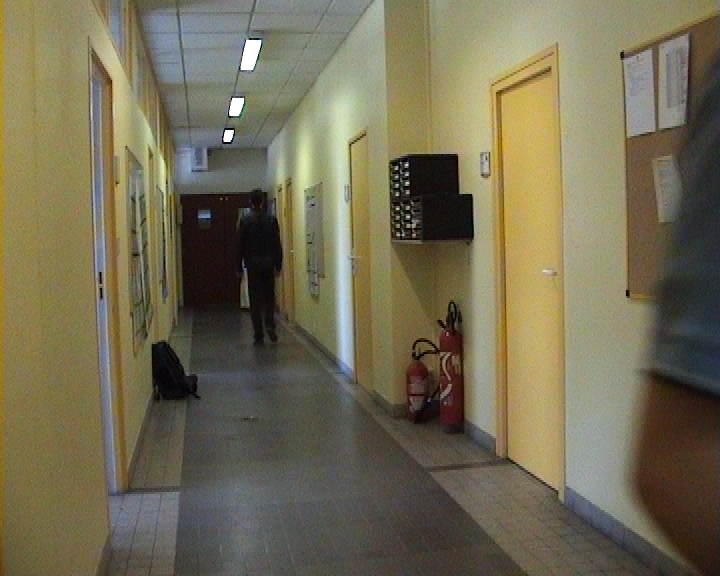leave bag unattended: (134, 331, 217, 418)
